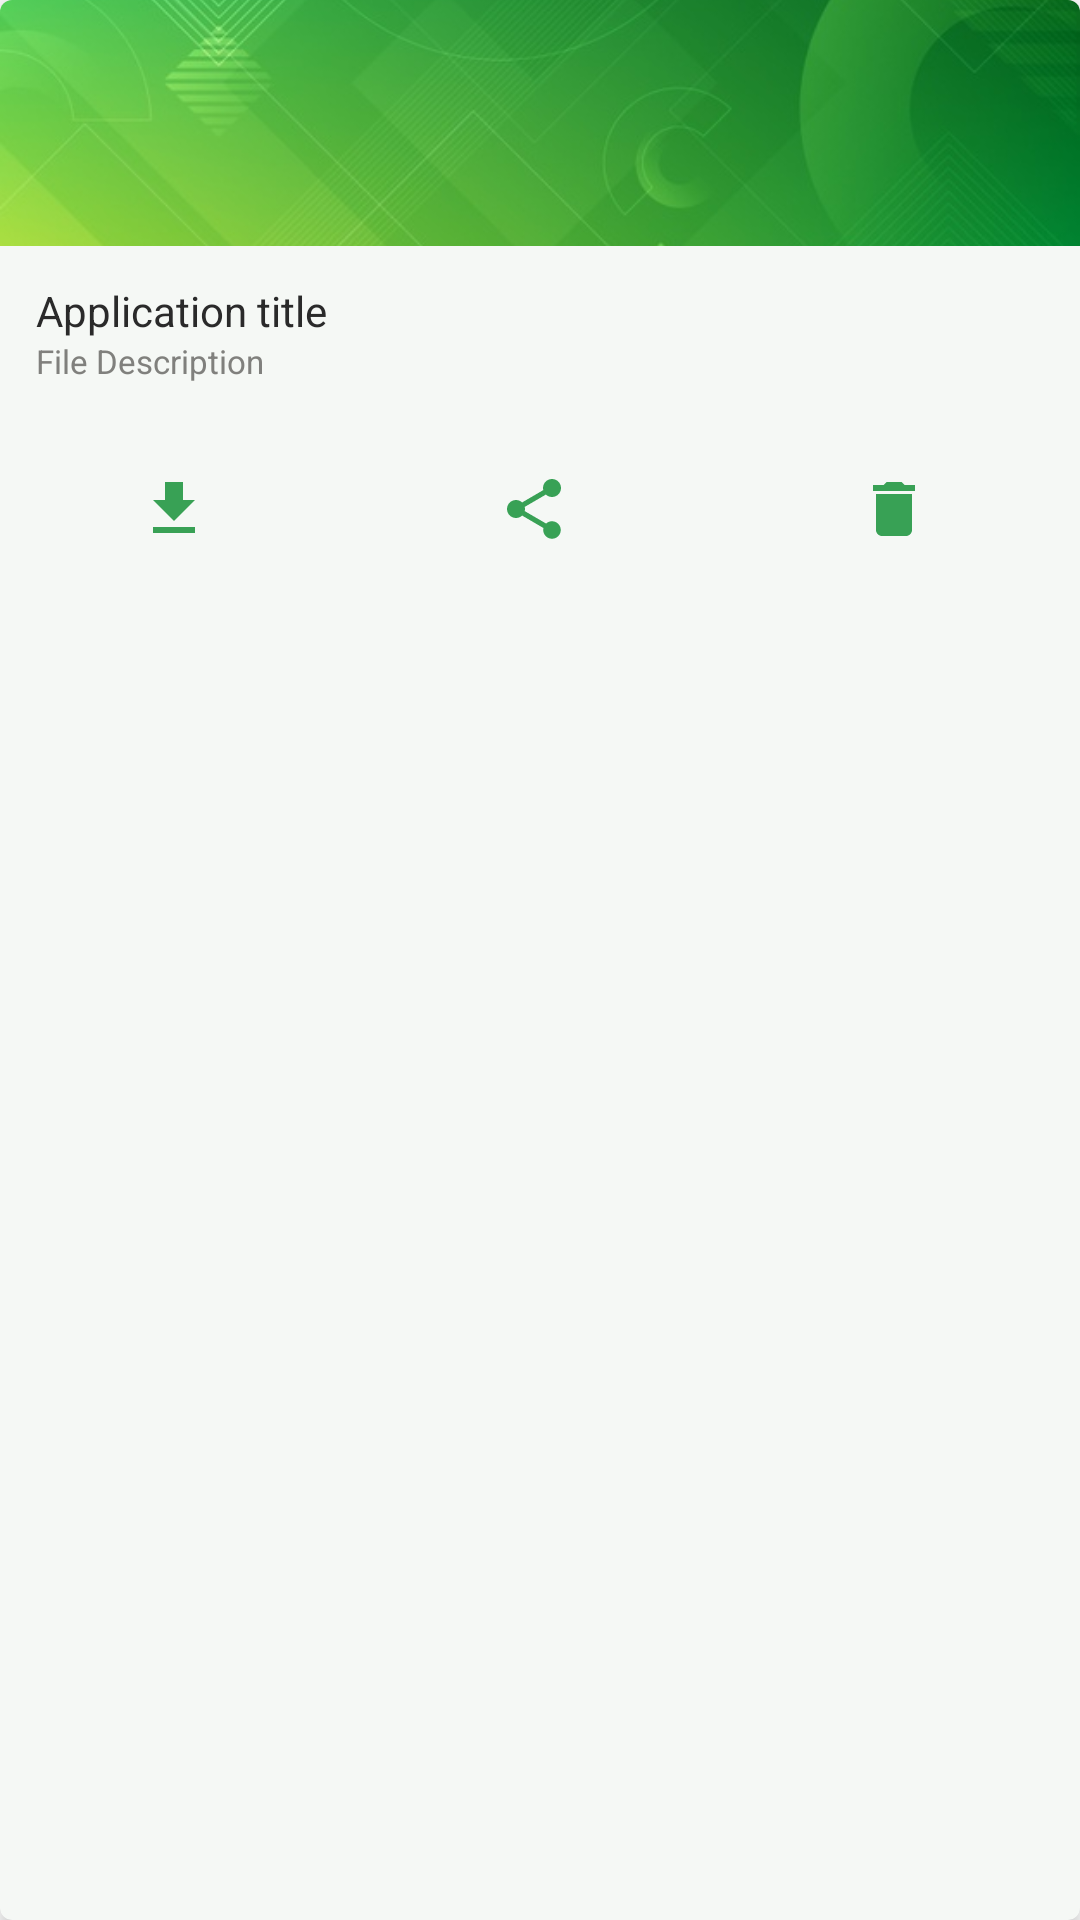

Screen size 1080px×1920px. Icon name, then its box in pixels as [x1, y1, x2, y2]:
delete: [873, 482, 915, 536]
download: [153, 482, 195, 533]
share: [507, 479, 561, 539]
